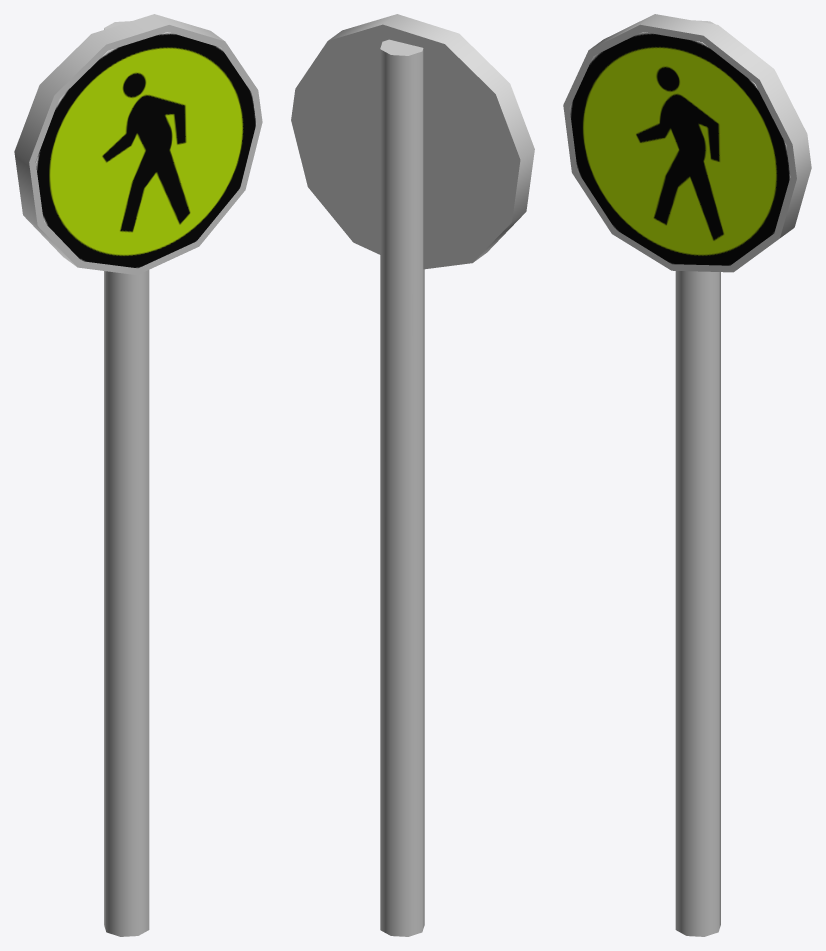
The model's file is PEDESTRIAN.fbx.
3 renders of one model, left to right at view 1: azimuth 30°, elevation 25°; view 2: azimuth 150°, elevation 25°; view 3: azimuth 330°, elevation 25°, orthographic.
Parts seen in each view (by area): view 1: pasted__pasted__pasted__pasted__pasted__pasted__pasted__past; view 2: pasted__pasted__pasted__pasted__pasted__pasted__pasted__past; view 3: pasted__pasted__pasted__pasted__pasted__pasted__pasted__past.
Boxes of the visible parts, x1,y1,x2,y2 form: pasted__pasted__pasted__pasted__pasted__pasted__pasted__past: (14, 14, 262, 936); pasted__pasted__pasted__pasted__pasted__pasted__pasted__past: (291, 14, 534, 936); pasted__pasted__pasted__pasted__pasted__pasted__pasted__past: (563, 14, 811, 936).
Size of the model in its own units: 1.02 by 3.81 by 0.2327.
2 materials, 1 textured.
